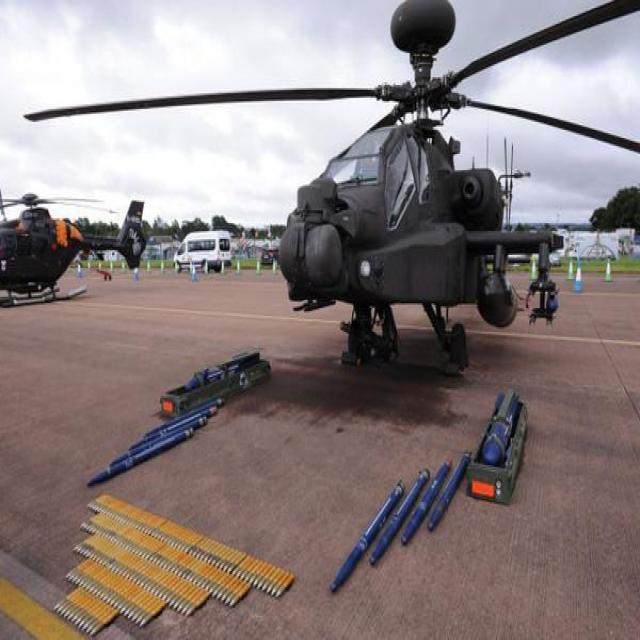MIL_HELO: (21, 0, 640, 374)
